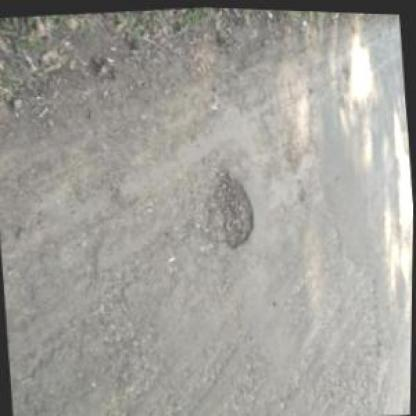pothole: (206, 159, 260, 251)
